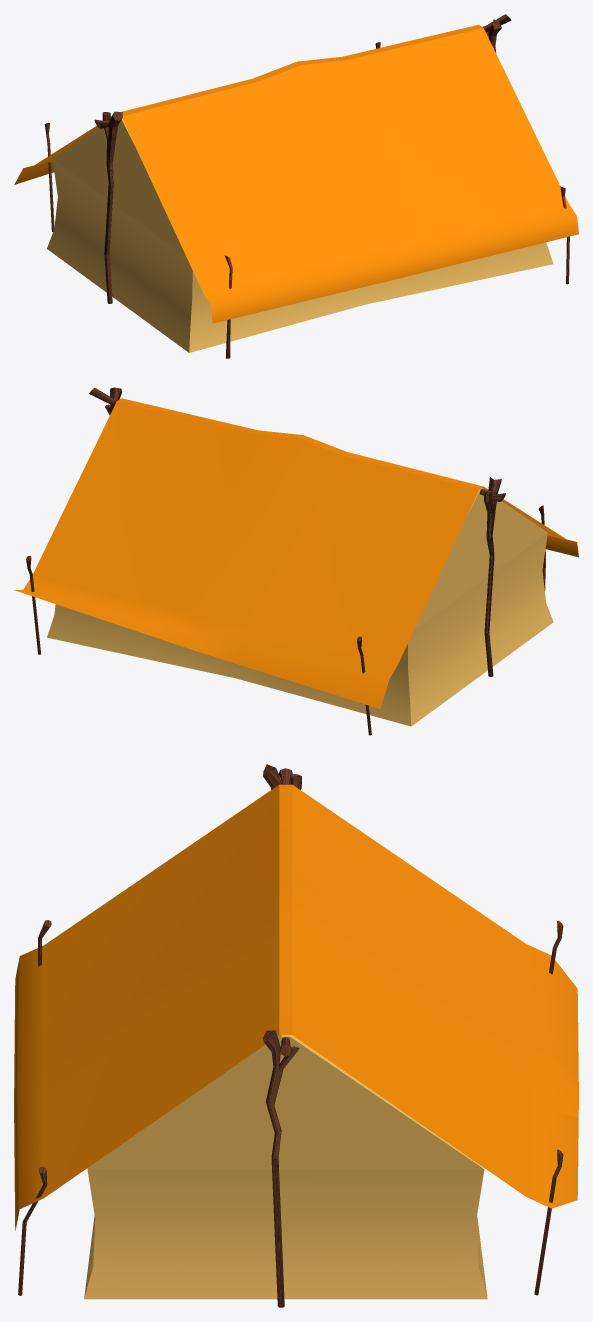
Rendered from tent.fbx.
3 views of the same model, one above another, from view 1: azimuth 30°, elevation 25°; view 2: azimuth 150°, elevation 25°; view 3: azimuth 270°, elevation 25° (orthographic). The views are drawn at different scales.
Parts seen in each view (by area): view 1: tentTop, tentMain, endWood1; view 2: tentTop, tentMain, endWood1; view 3: tentTop, tentMain, endWood, outerCornerWood.
Part boxes in pixels (left/top/right/bottom): tentTop: left=14, top=24, right=578, bottom=323; tentMain: left=47, top=119, right=553, bottom=352; endWood1: left=102, top=111, right=122, bottom=303; tentTop: left=14, top=398, right=578, bottom=709; tentMain: left=47, top=488, right=553, bottom=726; endWood1: left=483, top=477, right=501, bottom=676; tentTop: left=14, top=784, right=578, bottom=1230; tentMain: left=84, top=1035, right=487, bottom=1299; endWood: left=262, top=1030, right=298, bottom=1307; outerCornerWood: left=534, top=1149, right=563, bottom=1295.
Size of the model in its own units: 8.84 by 3.98 by 7.36.
4 materials, 2 textured.
